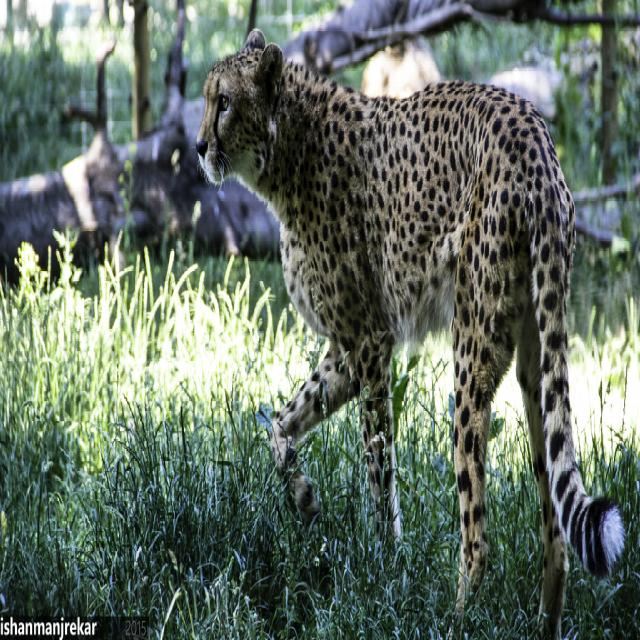Cheetah: (190, 25, 620, 639)
